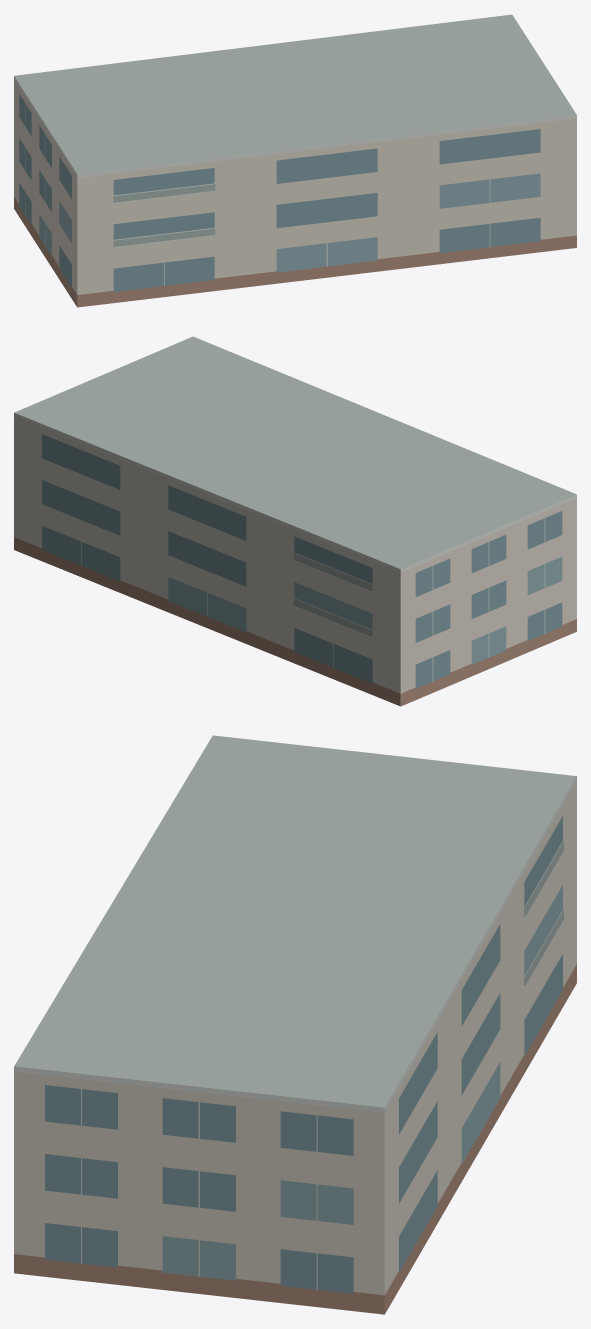
Rendered from survey-upis-32490309.glb.
The picture shows the model from 3 angles, top to bottom: view 1: azimuth 30°, elevation 25°; view 2: azimuth 150°, elevation 25°; view 3: azimuth 270°, elevation 25°; orthographic projection. The views are drawn at different scales.
Visible parts, largest first — view 1: survey-upis-32490309.tmp; view 2: survey-upis-32490309.tmp; view 3: survey-upis-32490309.tmp.
Boxes of the visible parts, x1,y1,x2,y2 form: survey-upis-32490309.tmp: (14,14,576,307); survey-upis-32490309.tmp: (14,336,576,706); survey-upis-32490309.tmp: (14,735,576,1314).
Bounding box in the file's own units: 35.3 × 9.15 × 22.56.
